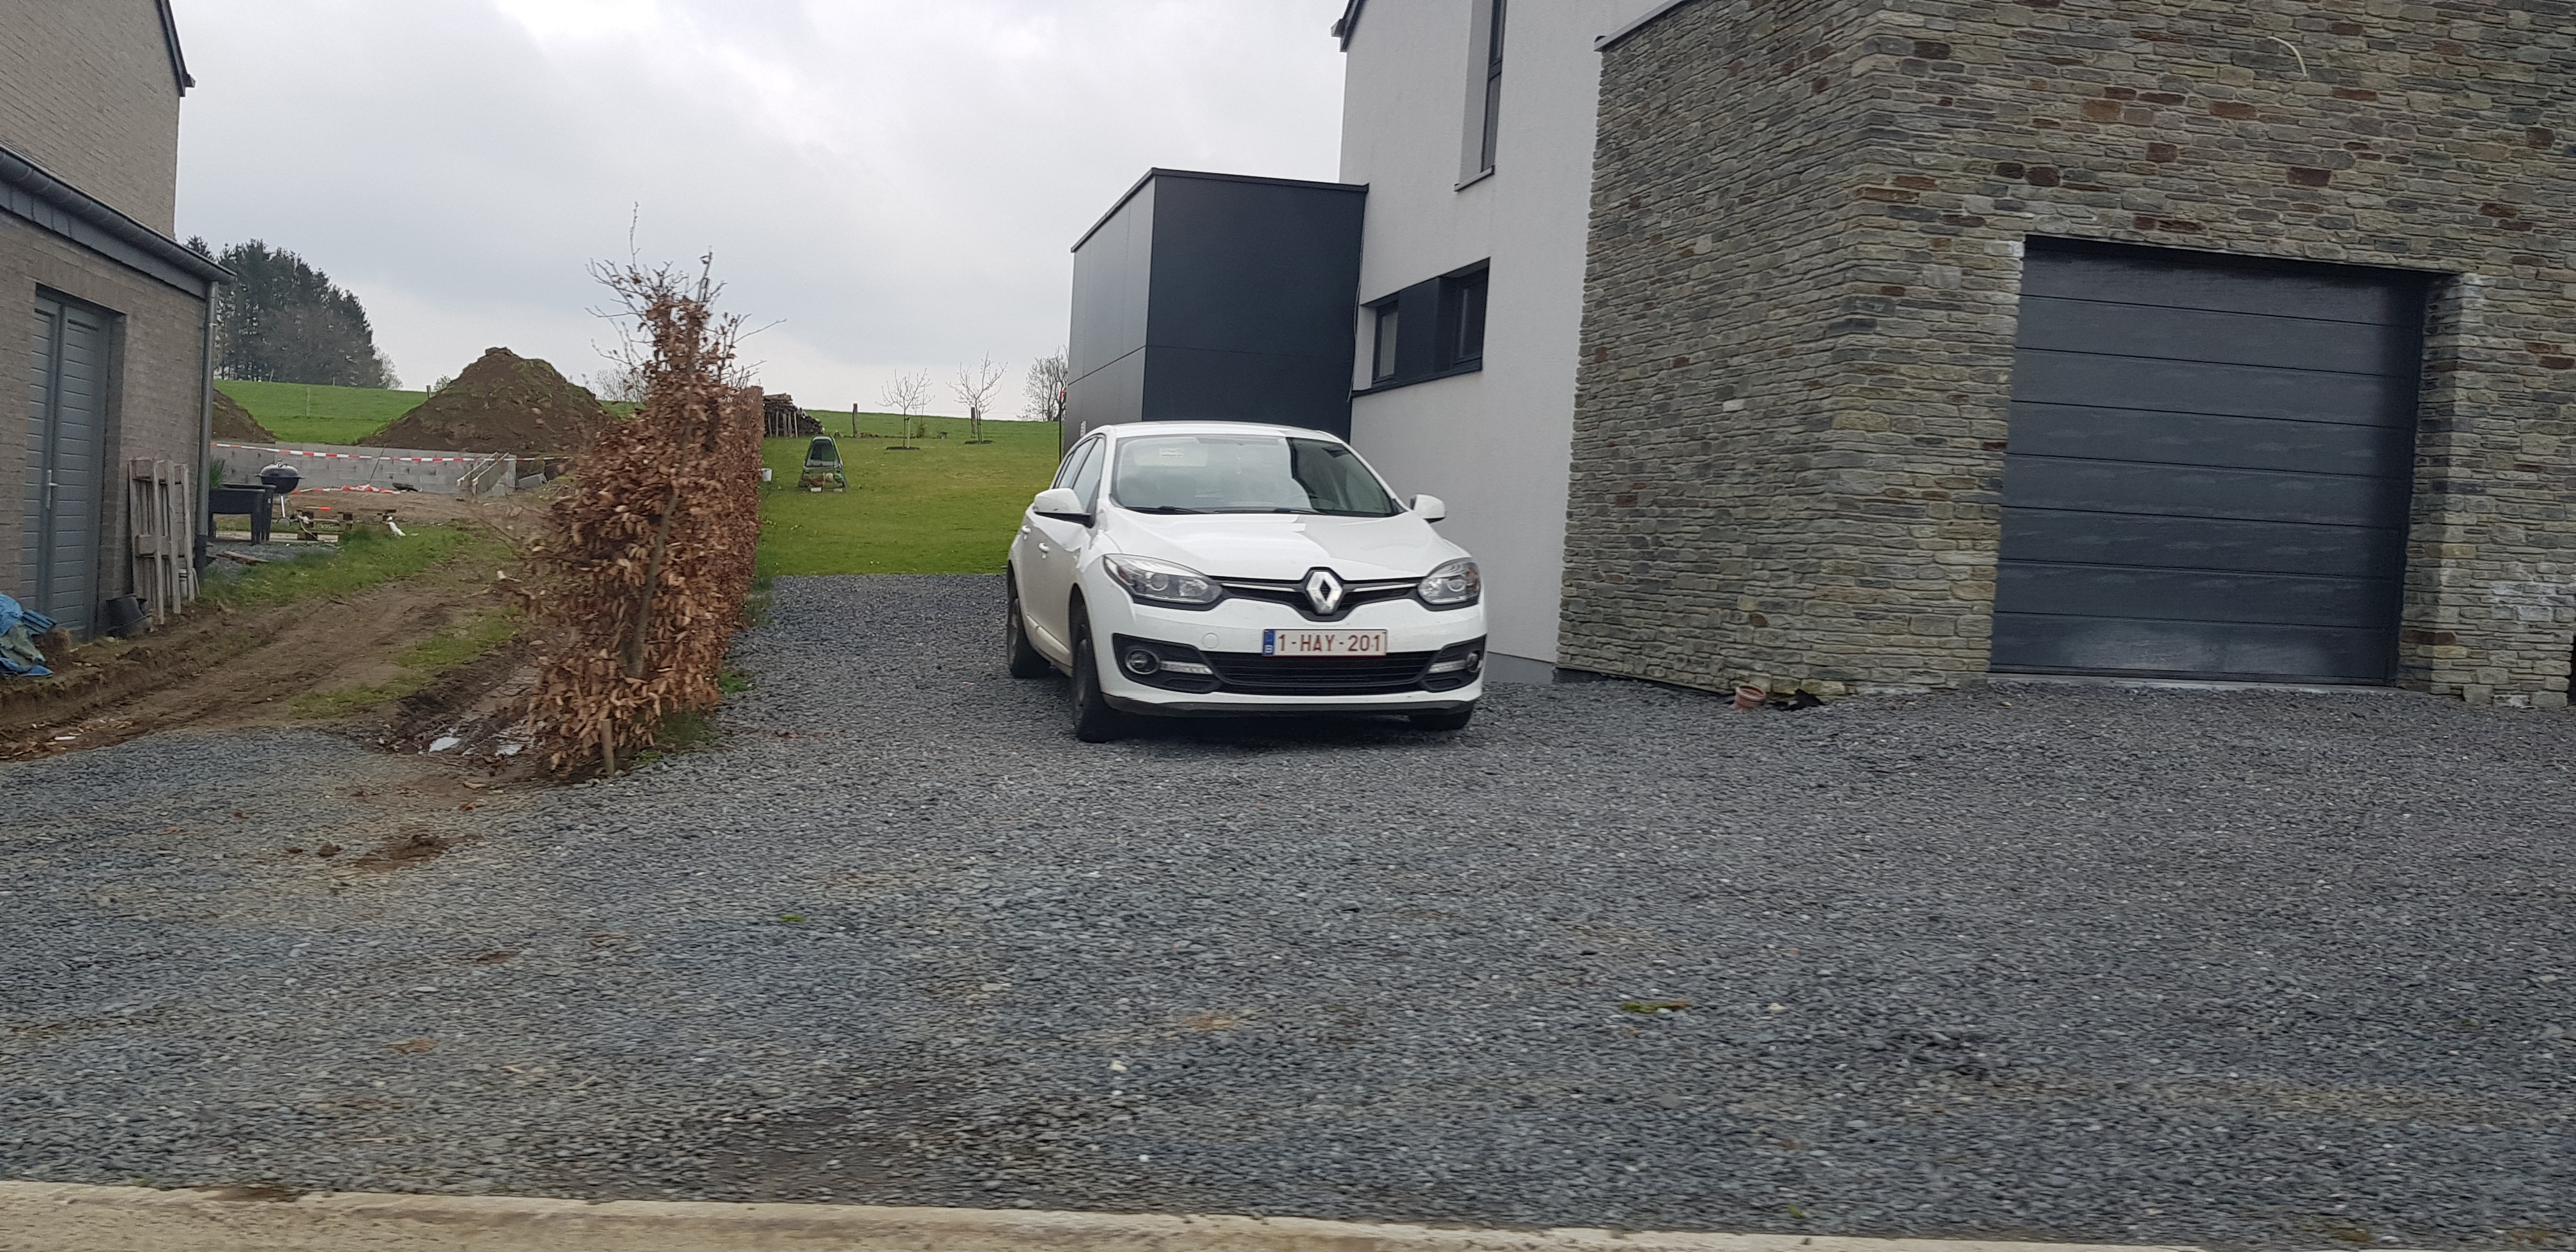licenceplate: (1262, 627, 1389, 655)
